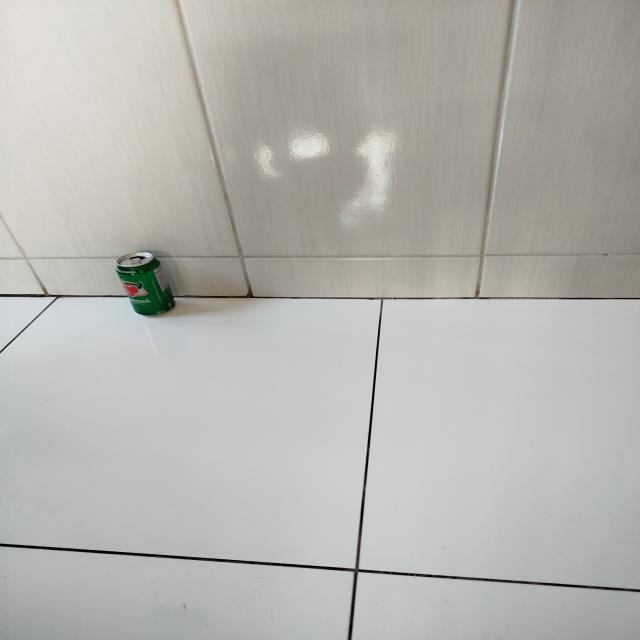Guarana: (116, 251, 177, 317)
